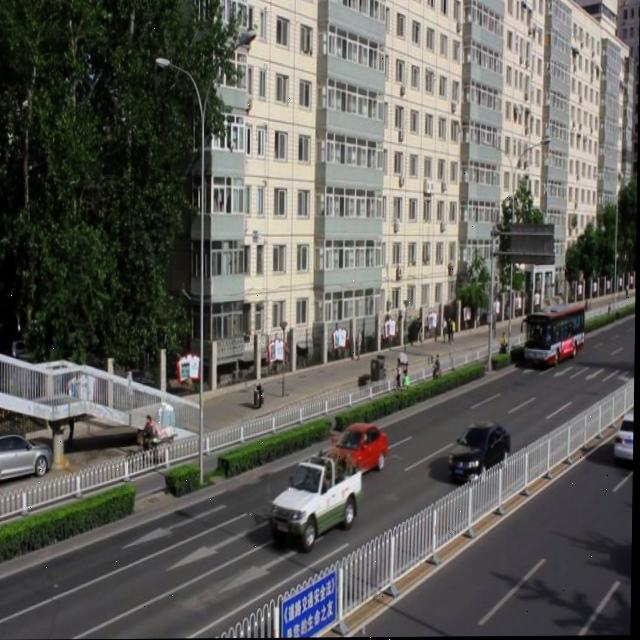car: (271, 449, 362, 550), (450, 421, 512, 485), (325, 419, 388, 478), (613, 413, 635, 463)
